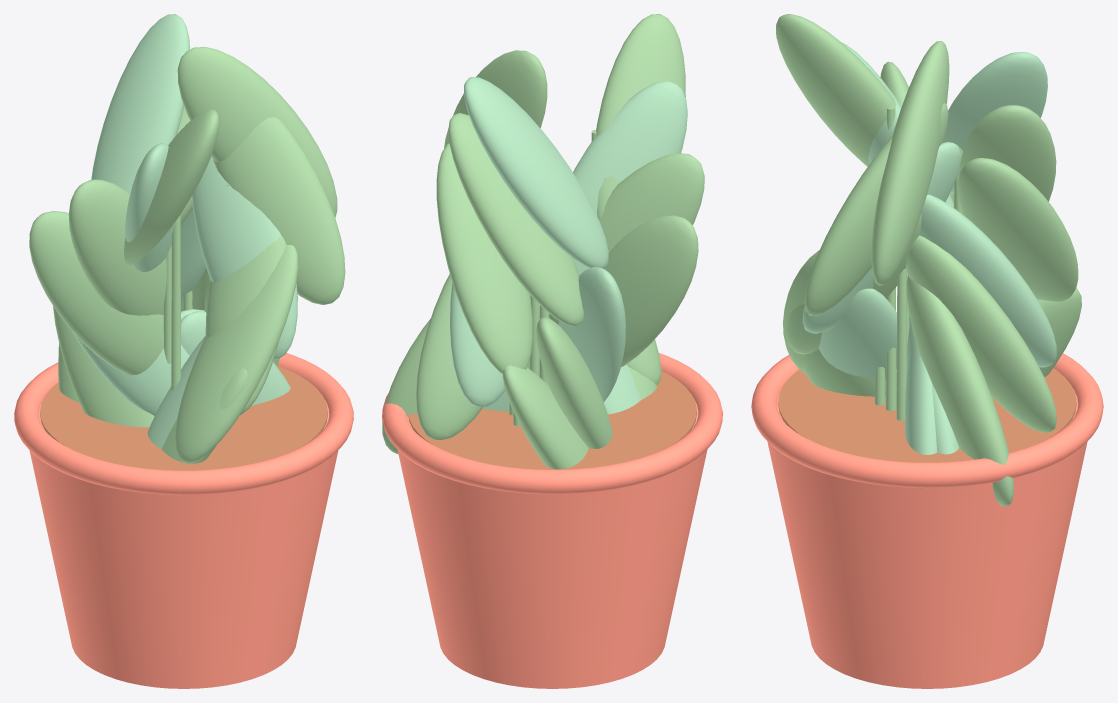
File: fern_bowl.glb
The picture shows the model from 3 angles, left to right: view 1: azimuth 30°, elevation 25°; view 2: azimuth 150°, elevation 25°; view 3: azimuth 270°, elevation 25°; orthographic projection. The views are drawn at different scales.
Parts seen in each view (by area): view 1: fern_bowl; view 2: fern_bowl; view 3: fern_bowl.
Boxes of the visible parts, bbox=[...] form: fern_bowl: bbox=[14, 14, 353, 688]; fern_bowl: bbox=[382, 14, 722, 688]; fern_bowl: bbox=[751, 14, 1103, 688].
Bounding box in the file's own units: 0.3281 × 0.6194 × 0.326.
